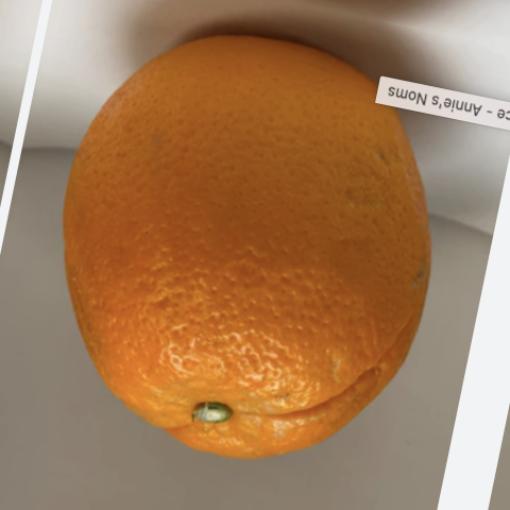orange: (0, 0, 501, 510)
